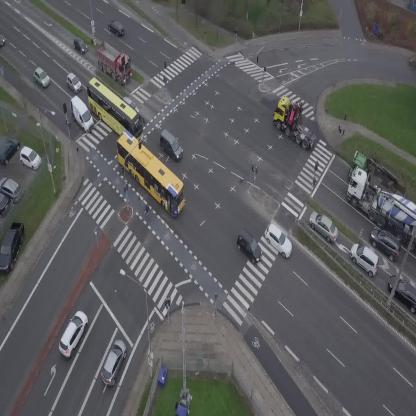bicycle: (143, 204, 150, 219)
bus: (105, 130, 197, 219), (75, 75, 154, 148)
car: (54, 308, 92, 359), (364, 223, 407, 263), (98, 337, 131, 388), (344, 240, 386, 279), (259, 221, 298, 261), (304, 208, 344, 246), (232, 229, 268, 264), (153, 129, 188, 163), (29, 66, 52, 90), (62, 71, 84, 94), (68, 35, 90, 57), (105, 17, 128, 38), (123, 95, 140, 110)
lorry: (265, 92, 328, 152), (349, 148, 411, 202), (86, 37, 141, 88), (64, 93, 97, 135)
